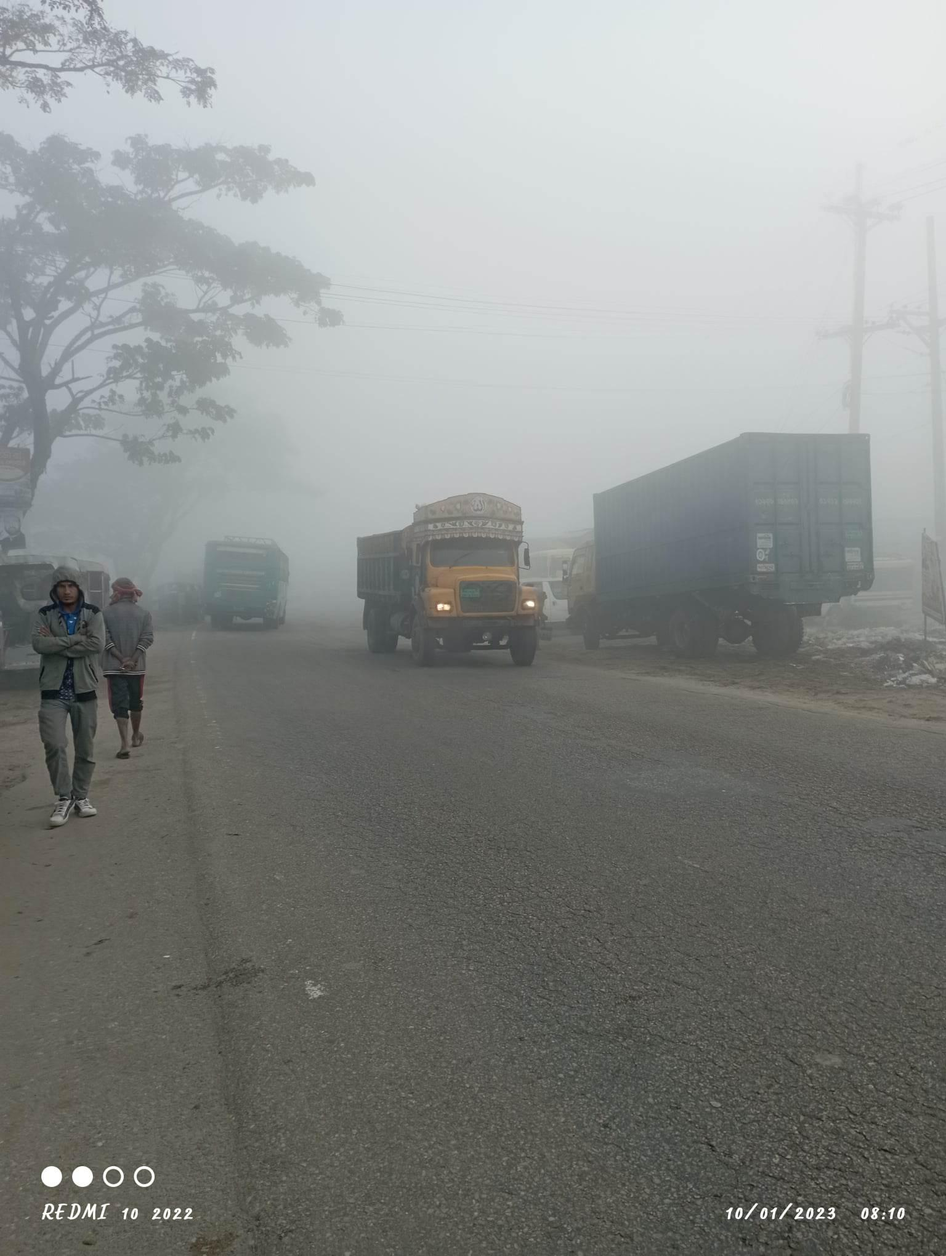Bus: (192, 520, 304, 648)
Truck: (583, 417, 892, 691), (328, 481, 557, 682)
